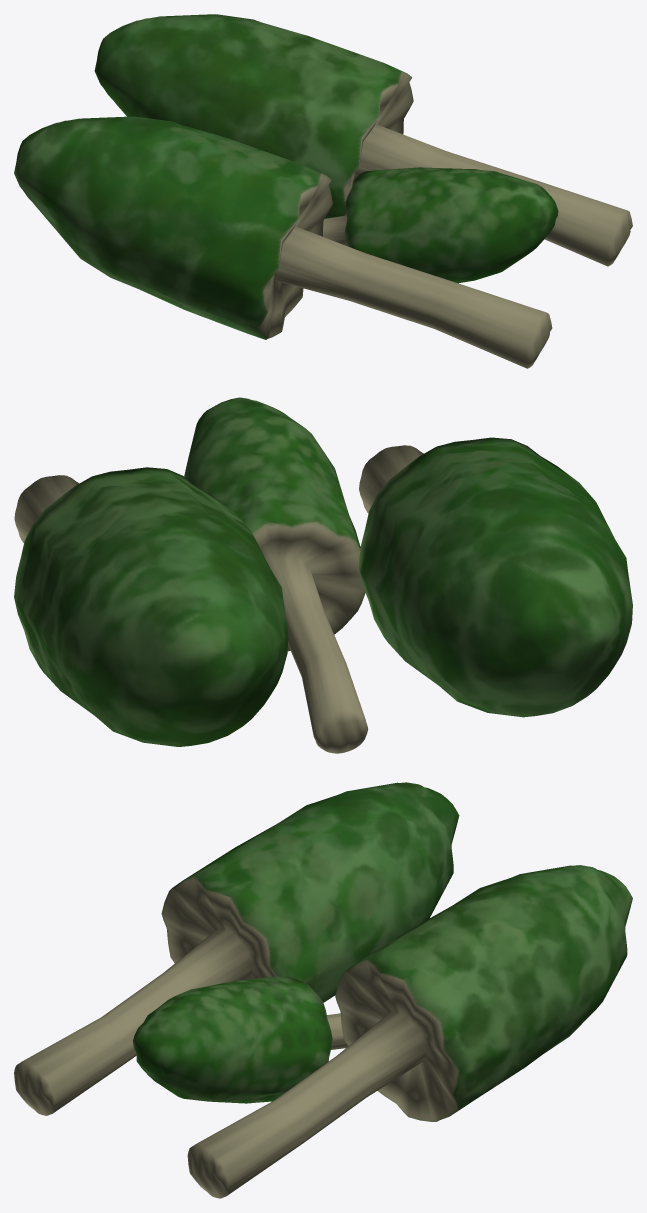
Rendered from green_mushrooms.fbx.
The picture shows the model from 3 angles, top to bottom: view 1: azimuth 30°, elevation 25°; view 2: azimuth 150°, elevation 25°; view 3: azimuth 270°, elevation 25°; orthographic projection. The views are drawn at different scales.
Parts seen in each view (by area): view 1: mushroom yellow.001, mushroom yellow, mushroom yellow.002; view 2: mushroom yellow, mushroom yellow.001, mushroom yellow.002; view 3: mushroom yellow, mushroom yellow.001, mushroom yellow.002.
Part boxes in pixels (x1,y1,x2,y2): mushroom yellow.001: [14, 116, 552, 368]; mushroom yellow: [94, 14, 632, 266]; mushroom yellow.002: [323, 167, 558, 283]; mushroom yellow: [14, 467, 288, 746]; mushroom yellow.001: [358, 437, 632, 717]; mushroom yellow.002: [184, 397, 368, 753]; mushroom yellow: [187, 865, 632, 1198]; mushroom yellow.001: [14, 782, 459, 1115]; mushroom yellow.002: [133, 976, 348, 1103].
Bounding box in the file's own units: 17.9 × 6.14 × 17.89.
